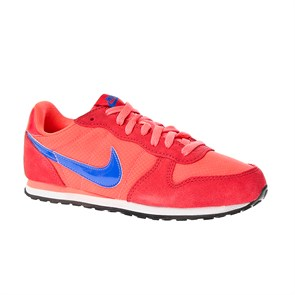nike: (25, 130, 125, 190)
